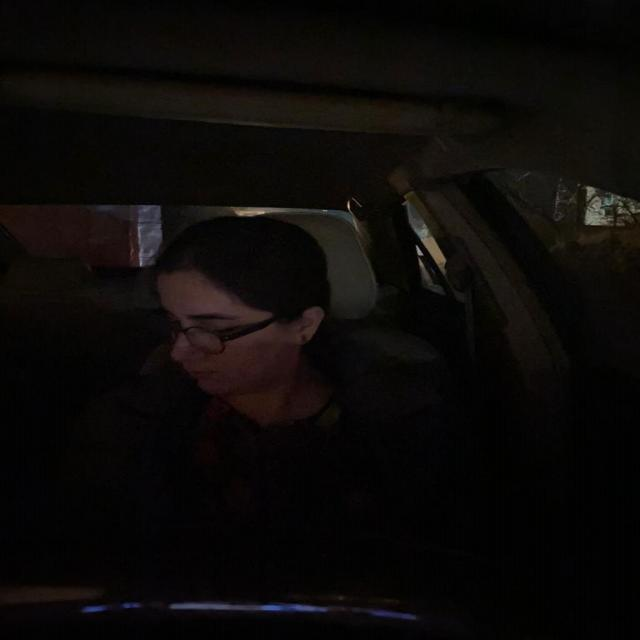drowsy: (146, 203, 340, 416)
